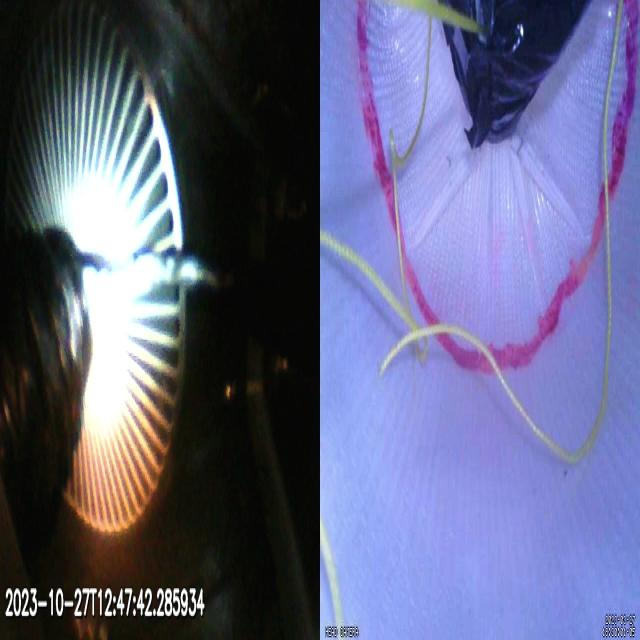red-circle: (355, 1, 640, 372)
